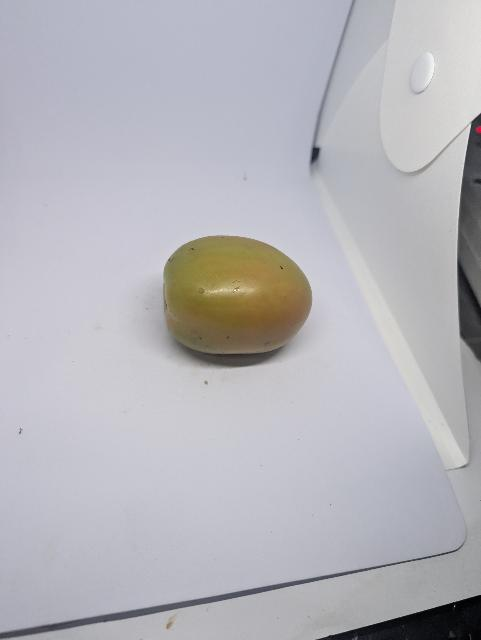breaker: (154, 232, 320, 360)
